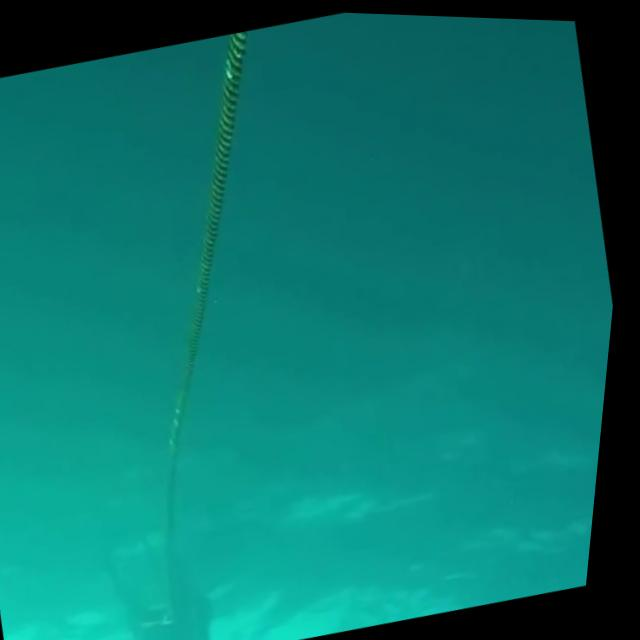human: (86, 460, 249, 640)
